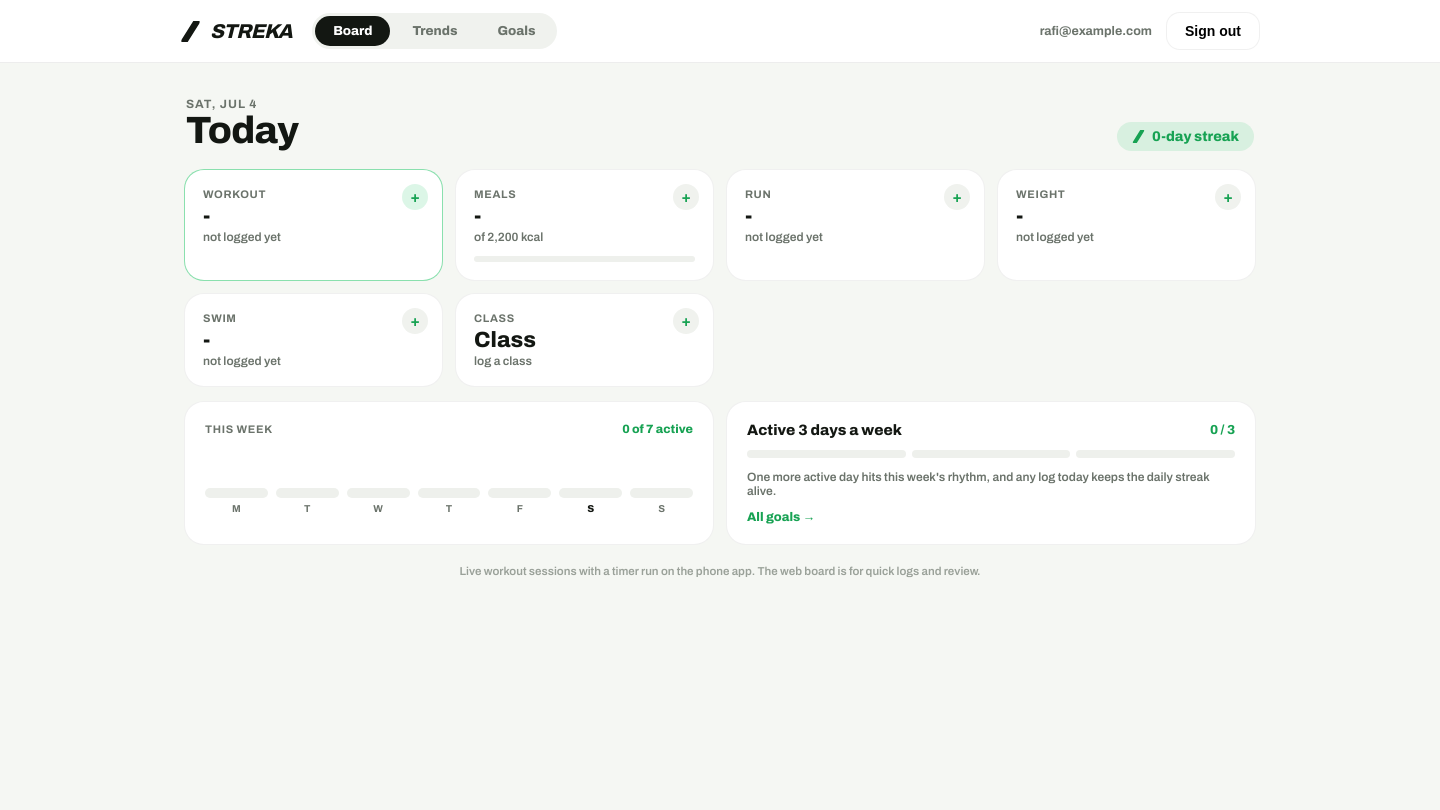
Test: Dashboard › switches sections via the nav pills
Check: the text "Today" is shown, box [186, 111, 298, 151]
Click the text "Trends": (435, 31) [412, 24, 458, 38]
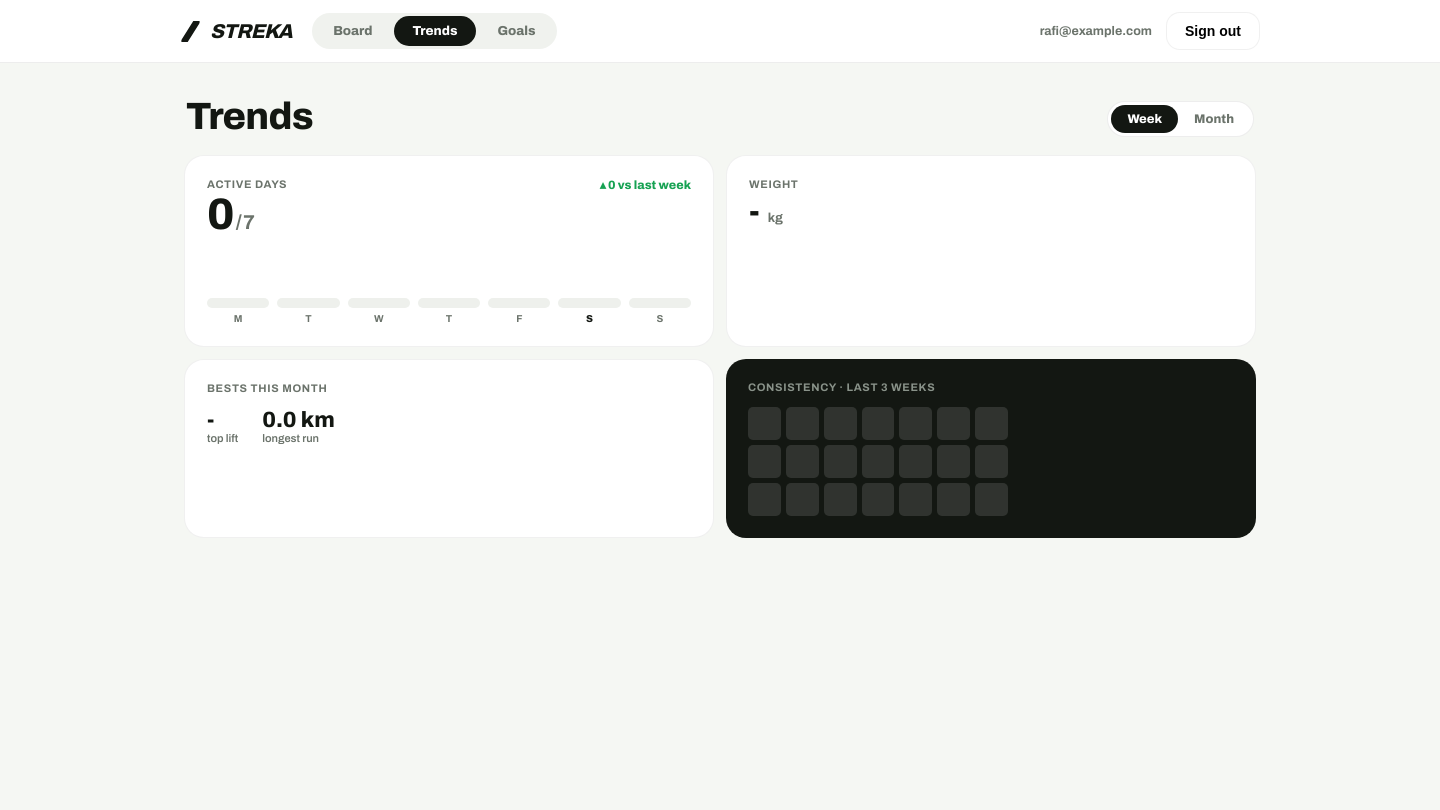
Check: the text "Consistency · last 3 weeks" is shown, box [748, 381, 935, 393]
Click the text "Goals": (517, 31) [498, 24, 536, 38]
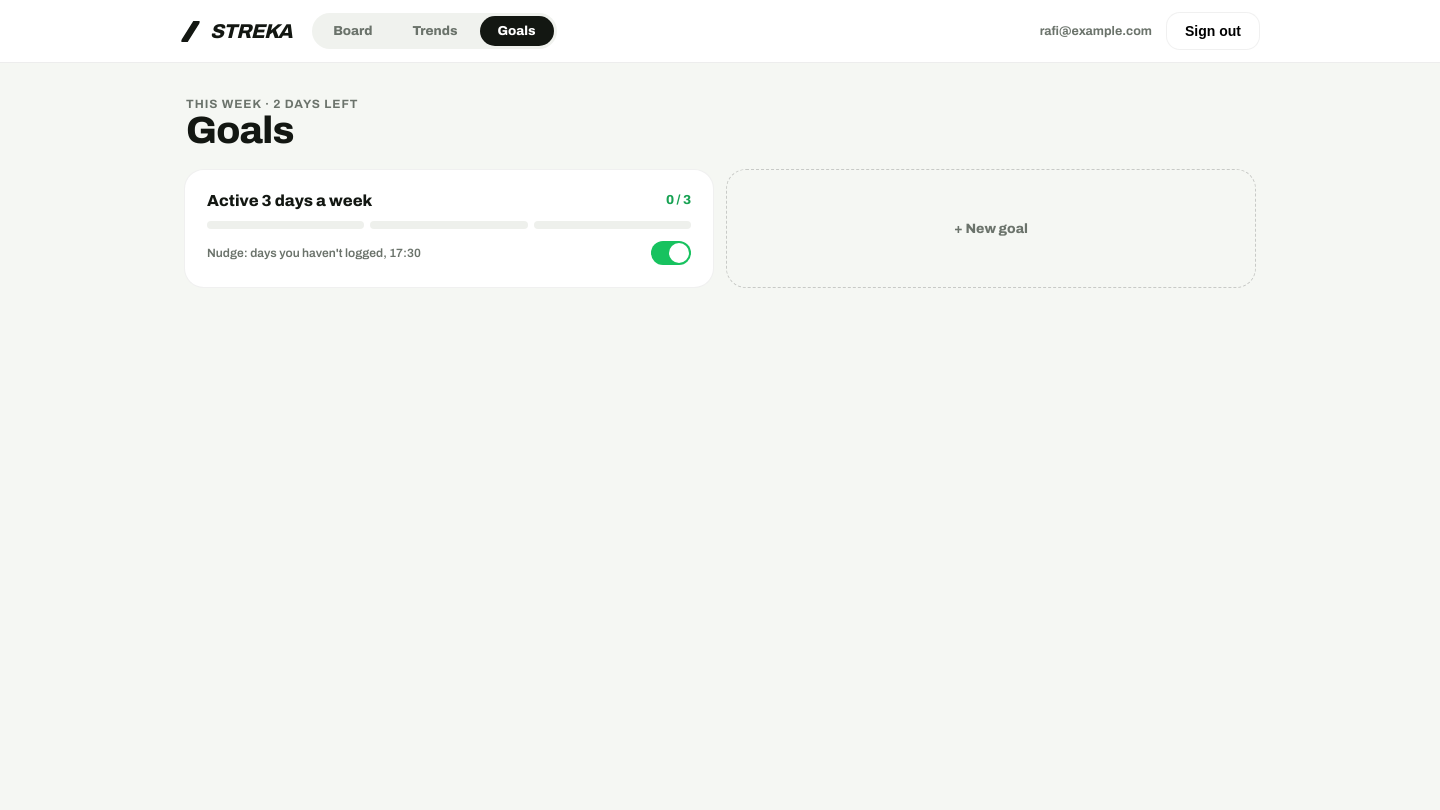
Check: the text "+ New goal" is shown, box [726, 169, 1256, 288]
